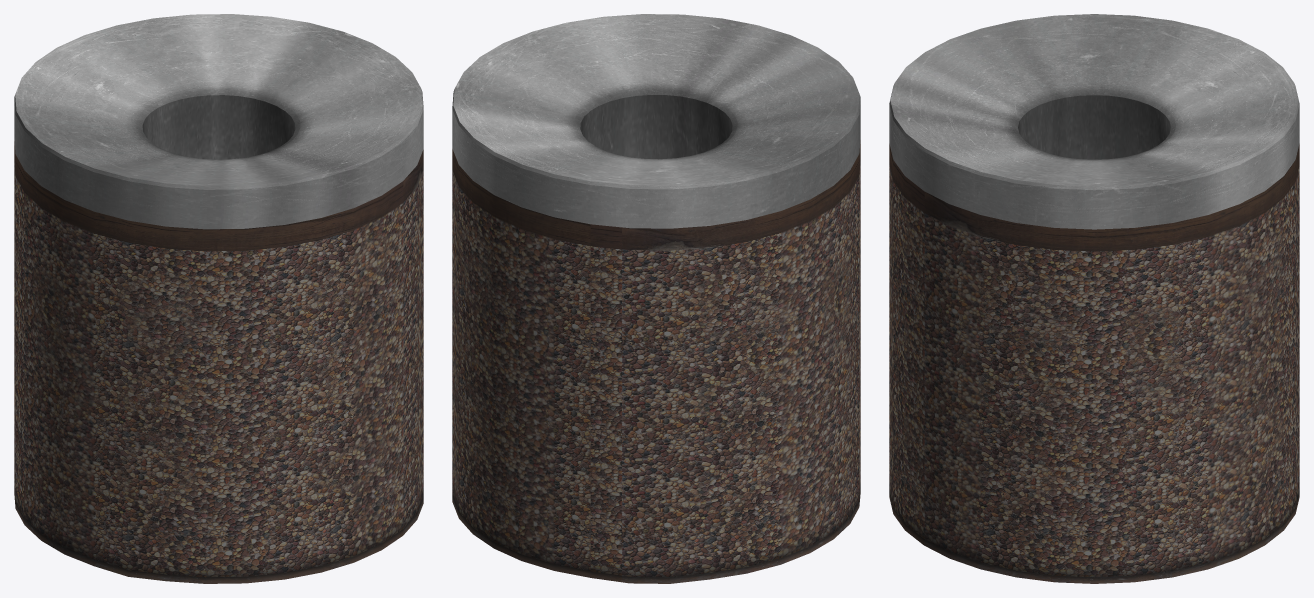
The model's file is MA_Garbage.FBX.
3 renders of one model, left to right at view 1: azimuth 30°, elevation 25°; view 2: azimuth 150°, elevation 25°; view 3: azimuth 270°, elevation 25°, orthographic.
Visible parts, largest first — view 1: MA_Garbage; view 2: MA_Garbage; view 3: MA_Garbage.
Part boxes in pixels (x1,y1,x2,y2): MA_Garbage: (14,14,423,583); MA_Garbage: (452,14,860,583); MA_Garbage: (889,14,1299,583).
Bounding box in the file's own units: 60.86 × 65.27 × 60.86.
